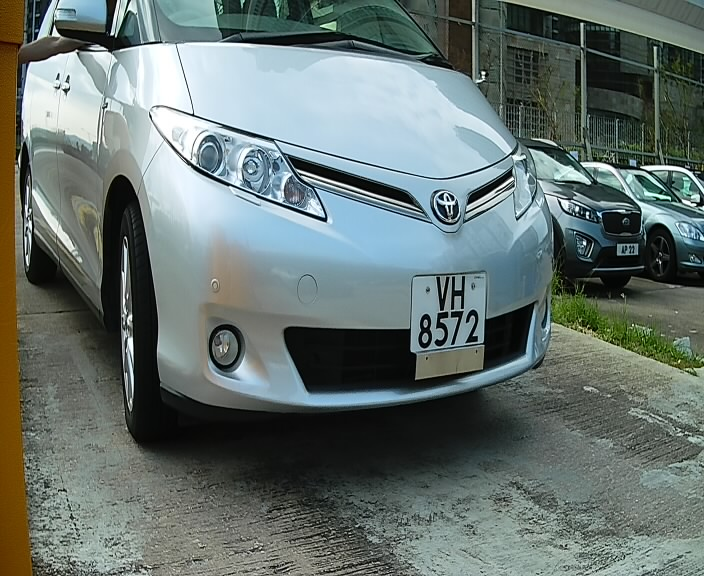Car: (14, 2, 566, 473)
License Plate: (403, 266, 496, 366)
